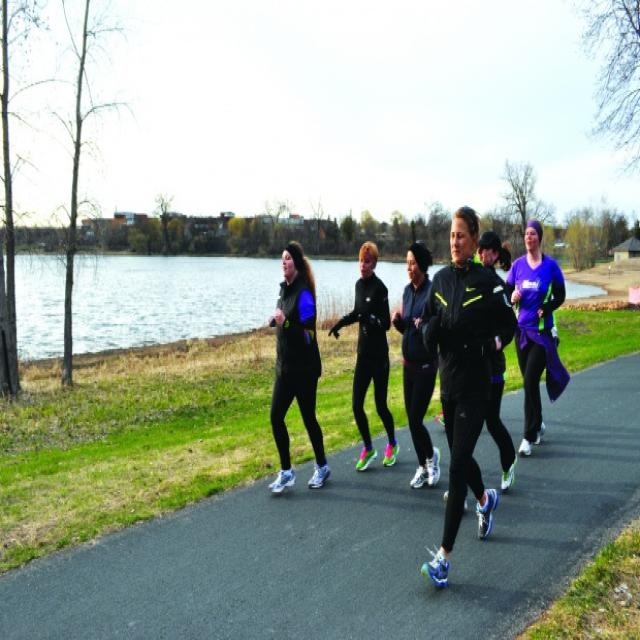body: (415, 201, 521, 592), (325, 237, 401, 473), (264, 237, 332, 498), (498, 215, 568, 458), (387, 234, 443, 491), (476, 227, 519, 494)
